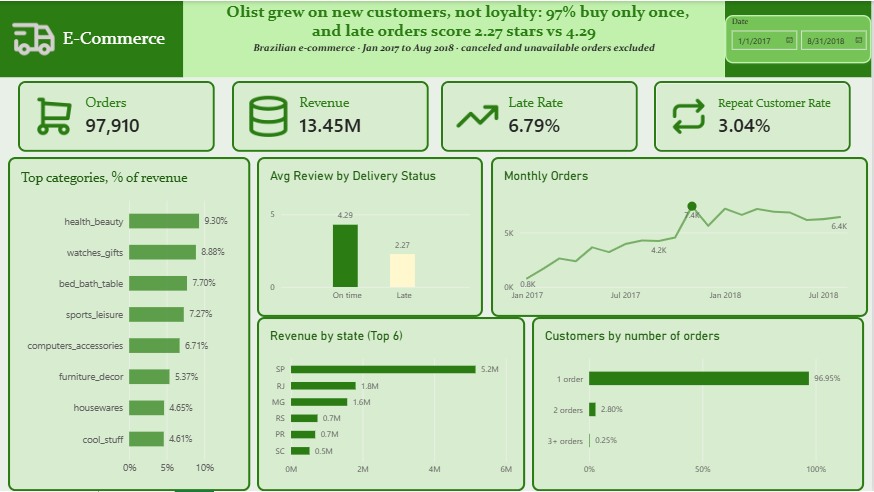

The dashboard page shown, as its layout file describes it:
{"tool":"powerbi","page":{"name":"Page 1","canvas":[1280,720],"ordinal":0},"visuals":[{"type":"textbox","box":[268.9,0,796.4,111.7],"z":0},{"type":"textbox","box":[1065.3,0,214.5,111.7],"z":1000},{"type":"textbox","box":[0,0,268.9,111.7],"z":2000},{"type":"cardVisual","fields":{"Data":["_Measures.Orders"]},"box":[26.4,117.6,289.5,104.3],"z":3000},{"type":"cardVisual","fields":{"Data":["_Measures.Late Rate"]},"box":[648,117.6,289.5,104.3],"z":4000},{"type":"cardVisual","fields":{"Data":["_Measures.Repeat Customer Rate"]},"box":[961,117.6,289.5,104.3],"z":5000},{"type":"cardVisual","fields":{"Data":["_Measures.Revenue"]},"box":[340.9,117.6,289.5,104.3],"z":7000},{"type":"lineChart","title":"Monthly Orders","fields":{"Category":["order_summary.order_month"],"Y":["_Measures.Orders"]},"box":[721.5,229.2,554,235.1],"z":9000},{"type":"barChart","title":"Top categories, % of revenue","fields":{"Category":["category_sales.category"],"Y":["_Measures.Category Share"]},"box":[11.8,229.2,355.6,490.8],"z":10000},{"type":"barChart","title":"Revenue by state (Top 6)","fields":{"Category":["order_summary.customer_state"],"Y":["_Measures.Revenue"]},"box":[377.6,464.3,393.8,255.7],"z":11000},{"type":"clusteredColumnChart","fields":{"Category":["order_summary.Delivery Status"],"Y":["_Measures.Avg Review"]},"box":[377.6,229.2,332.1,235.1],"z":12000},{"type":"barChart","title":"Customers by number of orders ","fields":{"Category":["order_summary.Order Segment"],"Y":["_Measures.Customers"]},"box":[781.7,464.3,487.8,255.7],"z":13000},{"type":"image","box":[0,20.6,101.4,70.5],"z":14000},{"type":"slicer","title":"Date","fields":{"Values":["order_summary.order_month"]},"box":[1065.3,20.6,214.5,70.5],"z":14001}]}

Visuals, with their boxes in screenshot pixels (x1, y1, x2, y2), scaled from the page's 1280x720 canvas onto the 874x492 screenshot:
textbox: box(184, 0, 727, 76)
textbox: box(727, 0, 873, 76)
textbox: box(0, 0, 184, 76)
cardVisual - _Measures.Orders: box(18, 80, 216, 152)
cardVisual - _Measures.Late Rate: box(442, 80, 640, 152)
cardVisual - _Measures.Repeat Customer Rate: box(656, 80, 854, 152)
cardVisual - _Measures.Revenue: box(233, 80, 430, 152)
"Monthly Orders" lineChart: box(493, 157, 871, 317)
"Top categories, % of revenue" barChart: box(8, 157, 251, 491)
"Revenue by state (Top 6)" barChart: box(258, 317, 527, 491)
clusteredColumnChart - order_summary.Delivery Status x _Measures.Avg Review: box(258, 157, 485, 317)
"Customers by number of orders " barChart: box(534, 317, 867, 491)
image: box(0, 14, 69, 62)
"Date" slicer: box(727, 14, 873, 62)
